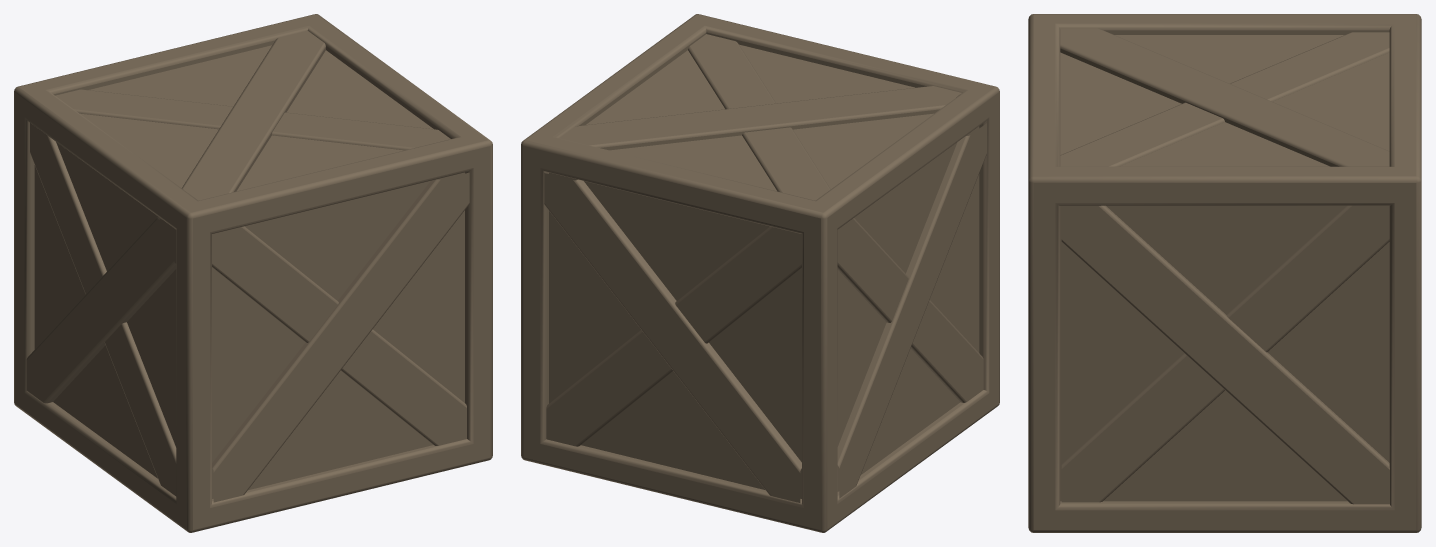
Rendered from boxWoodenCrash.fbx.
The picture shows the model from 3 angles, left to right: view 1: azimuth 30°, elevation 25°; view 2: azimuth 150°, elevation 25°; view 3: azimuth 270°, elevation 25°; orthographic projection. The views are drawn at different scales.
Parts seen in each view (by area): view 1: Symmetry_2; view 2: Symmetry_2; view 3: Symmetry_2.
Part boxes in pixels (x1=…): Symmetry_2: x1=14, y1=14, x2=492, y2=532; Symmetry_2: x1=521, y1=14, x2=999, y2=532; Symmetry_2: x1=1028, y1=14, x2=1421, y2=532.
Size of the model in its own units: 200 by 200 by 200.
